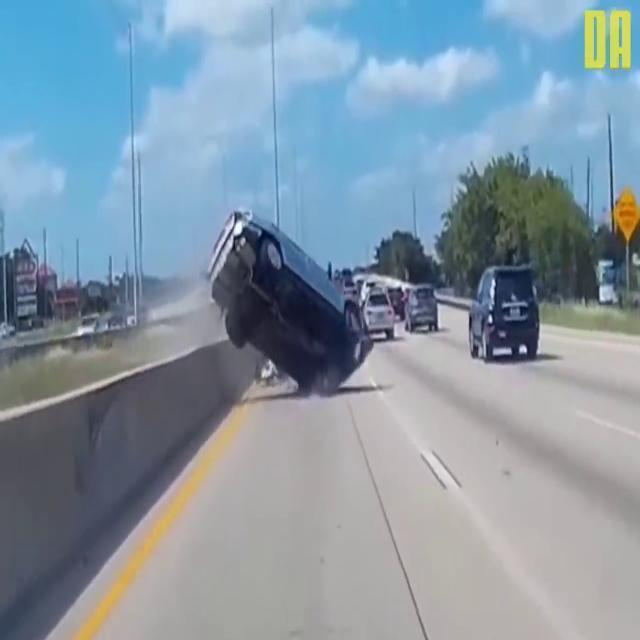accident: (200, 207, 372, 405)
non-accident: (363, 274, 441, 340)
